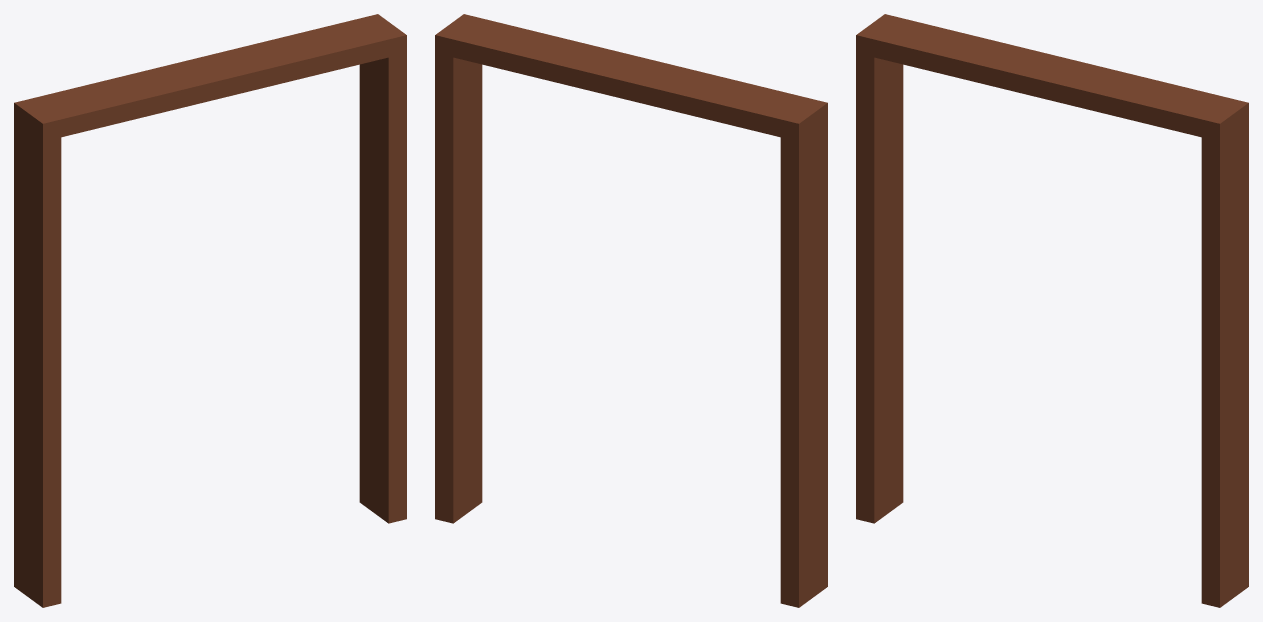
The model's file is Frame001.fbx.
3 views of the same model, side by side, from view 1: azimuth 30°, elevation 25°; view 2: azimuth 150°, elevation 25°; view 3: azimuth 330°, elevation 25° (orthographic).
Visible parts, largest first — view 1: Flame; view 2: Flame; view 3: Flame.
Part boxes in pixels (x1=…): Flame: x1=14, y1=14, x2=406, y2=607; Flame: x1=435, y1=14, x2=827, y2=607; Flame: x1=856, y1=14, x2=1248, y2=607.
Size of the model in its own units: 212 by 269 by 29.04.
